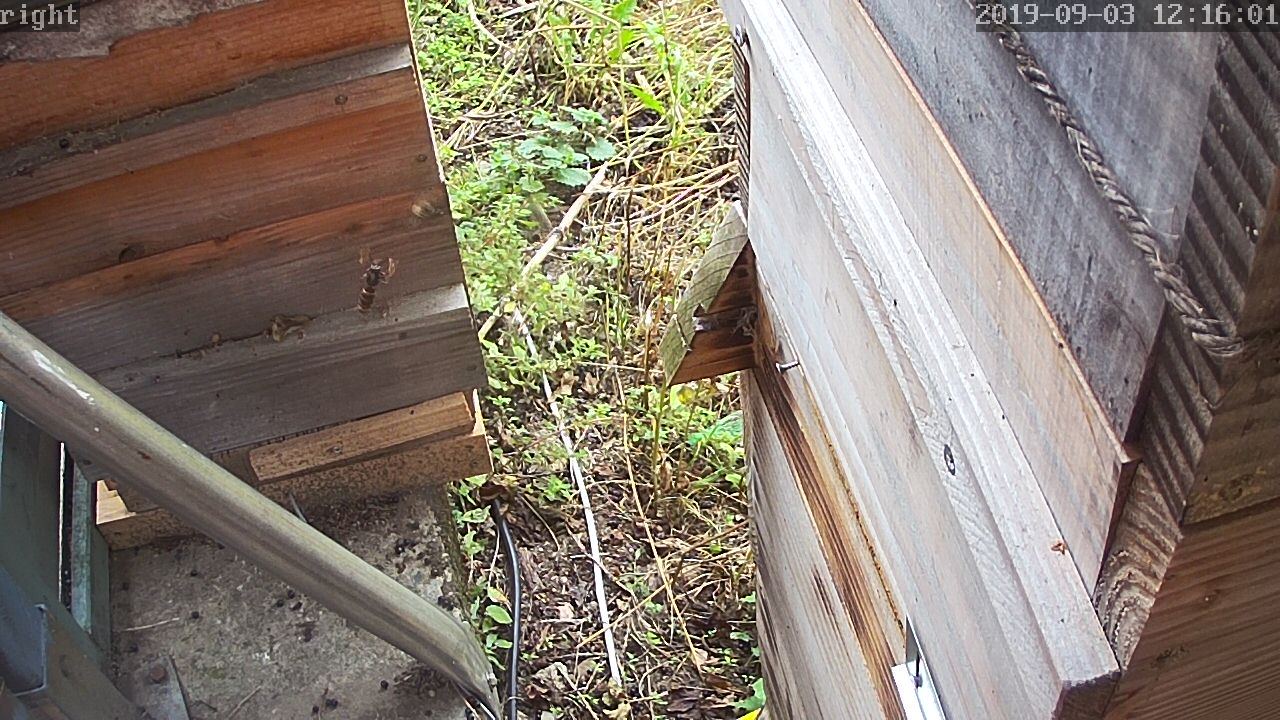hornet: (352, 251, 391, 309)
